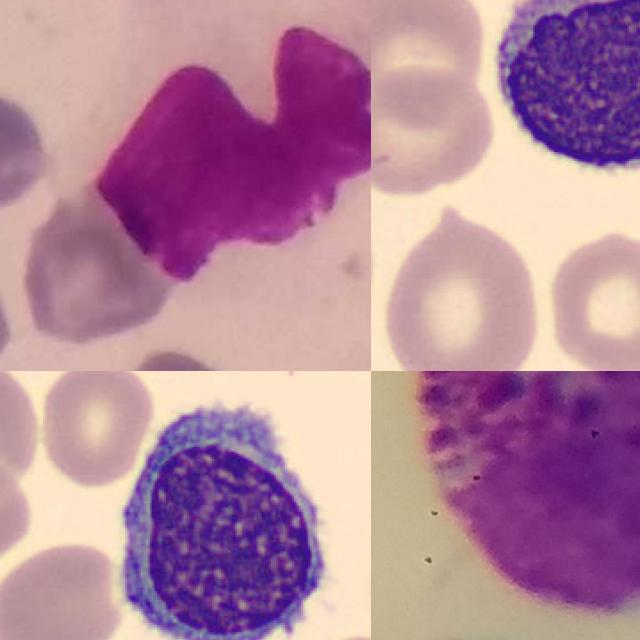Basophil: (420, 371, 640, 616)
Lymphocyte: (100, 378, 343, 640), (476, 0, 640, 201)
Monocyte: (101, 0, 371, 288)
RBC: (375, 196, 549, 371), (371, 65, 499, 199), (32, 371, 158, 490), (542, 226, 640, 371), (371, 0, 490, 113), (0, 537, 126, 640), (0, 371, 43, 485), (0, 453, 38, 577)
